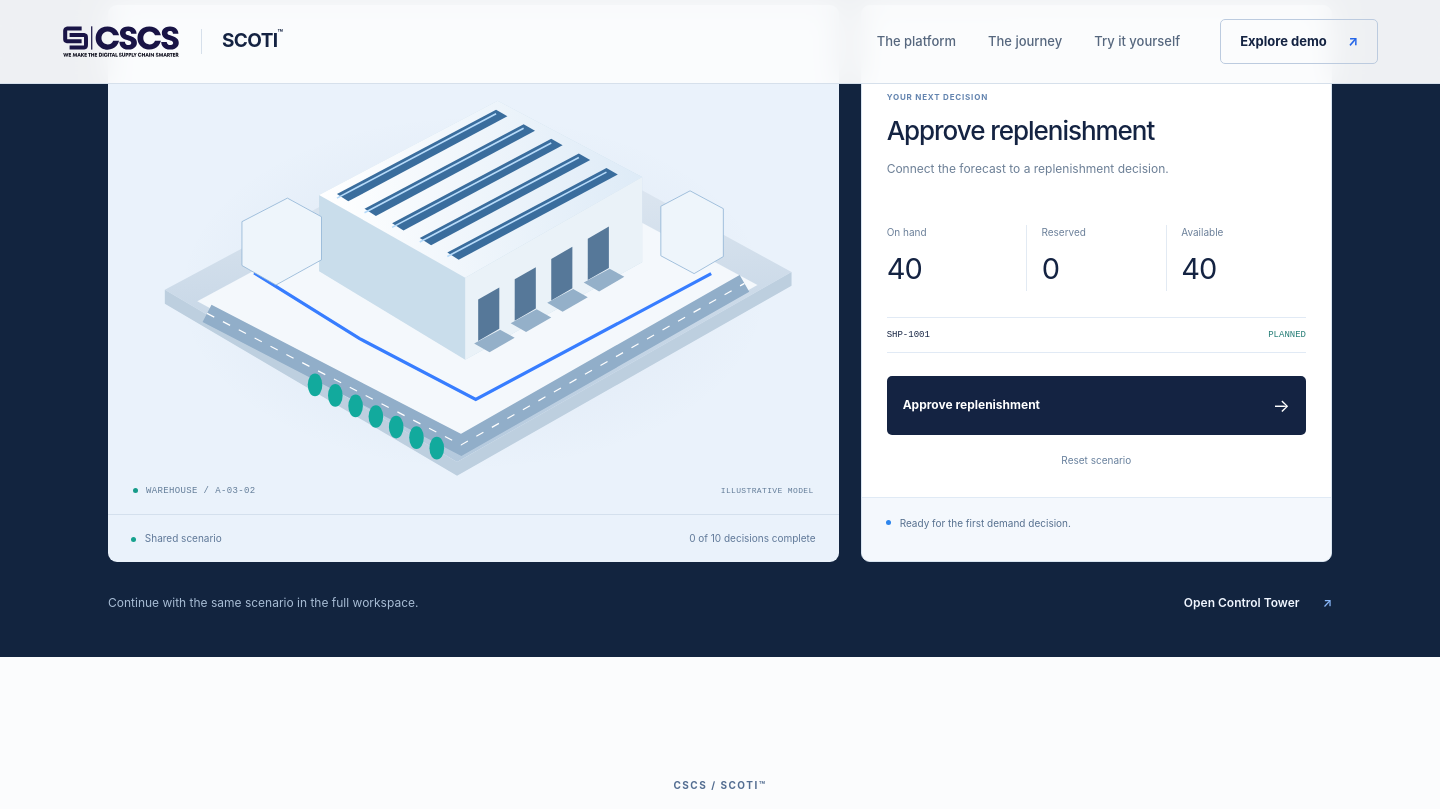
Test: connected marketing walkthrough › confirms reset and restores all canonical inventory and progression
(page scrolled)
Click the button "Approve replenishment →" at x=971, y=405, box [887,376,1306,435]
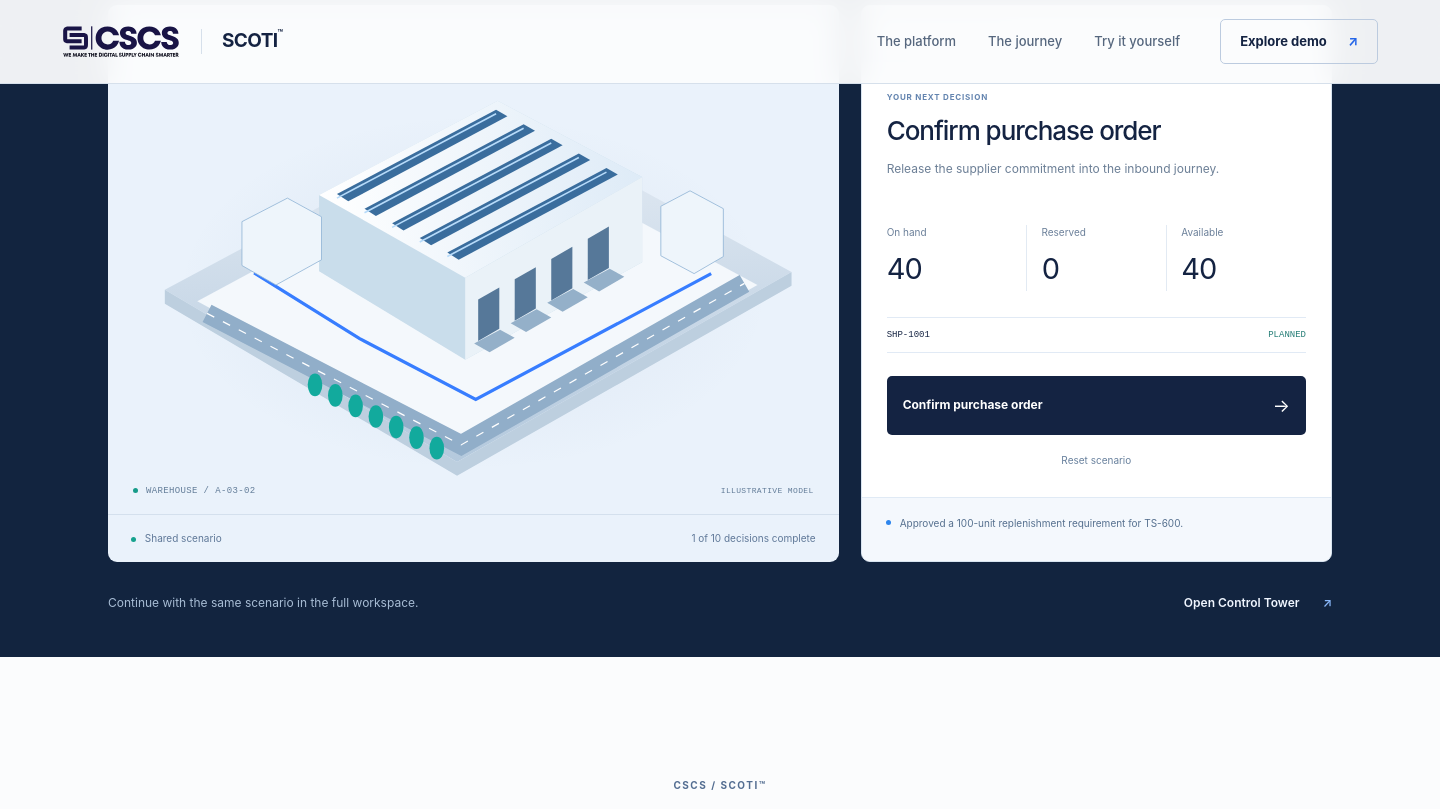
Click the button "Confirm purchase order →" at x=973, y=405, box [887,376,1306,435]
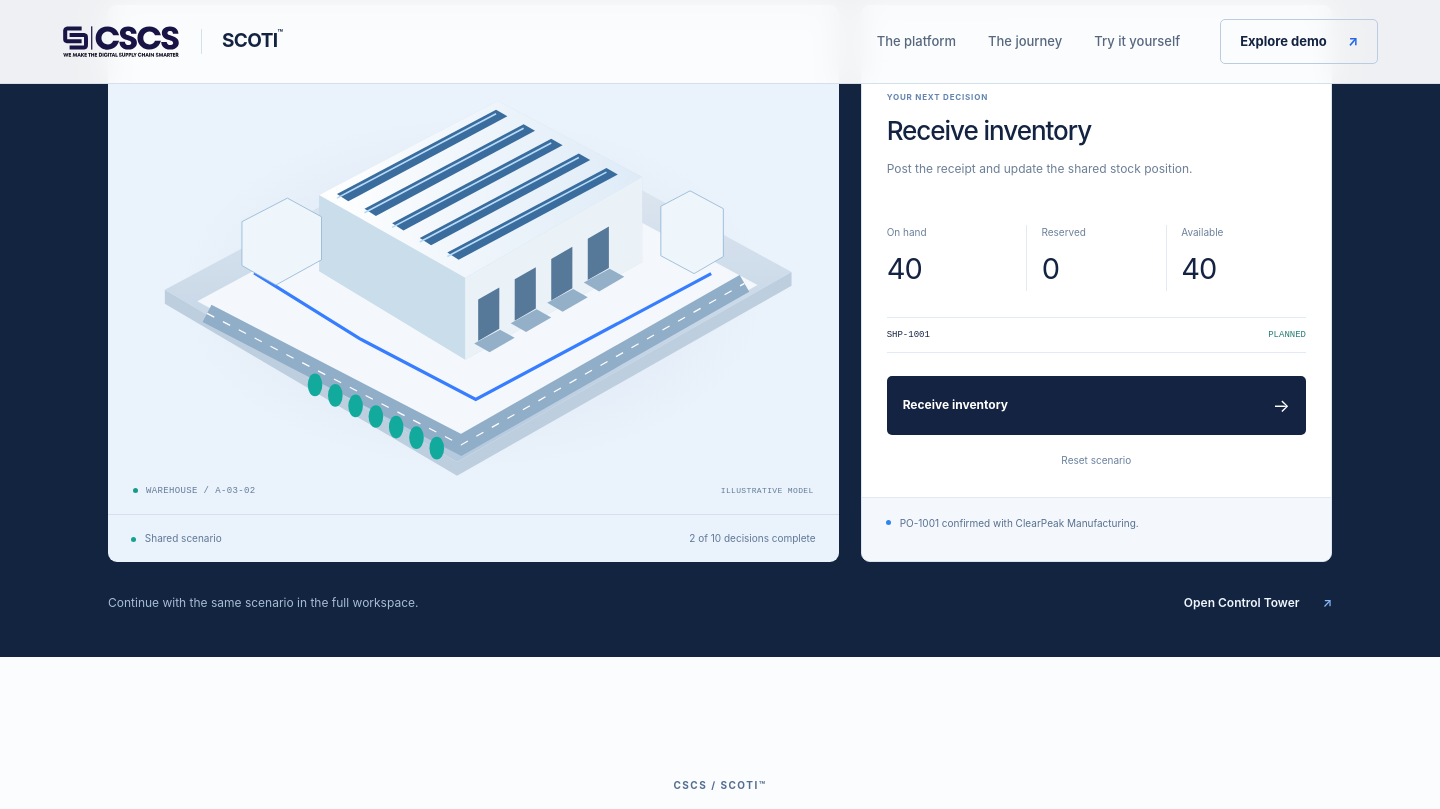
Click the button "Receive inventory →" at x=955, y=405, box [887,376,1306,435]
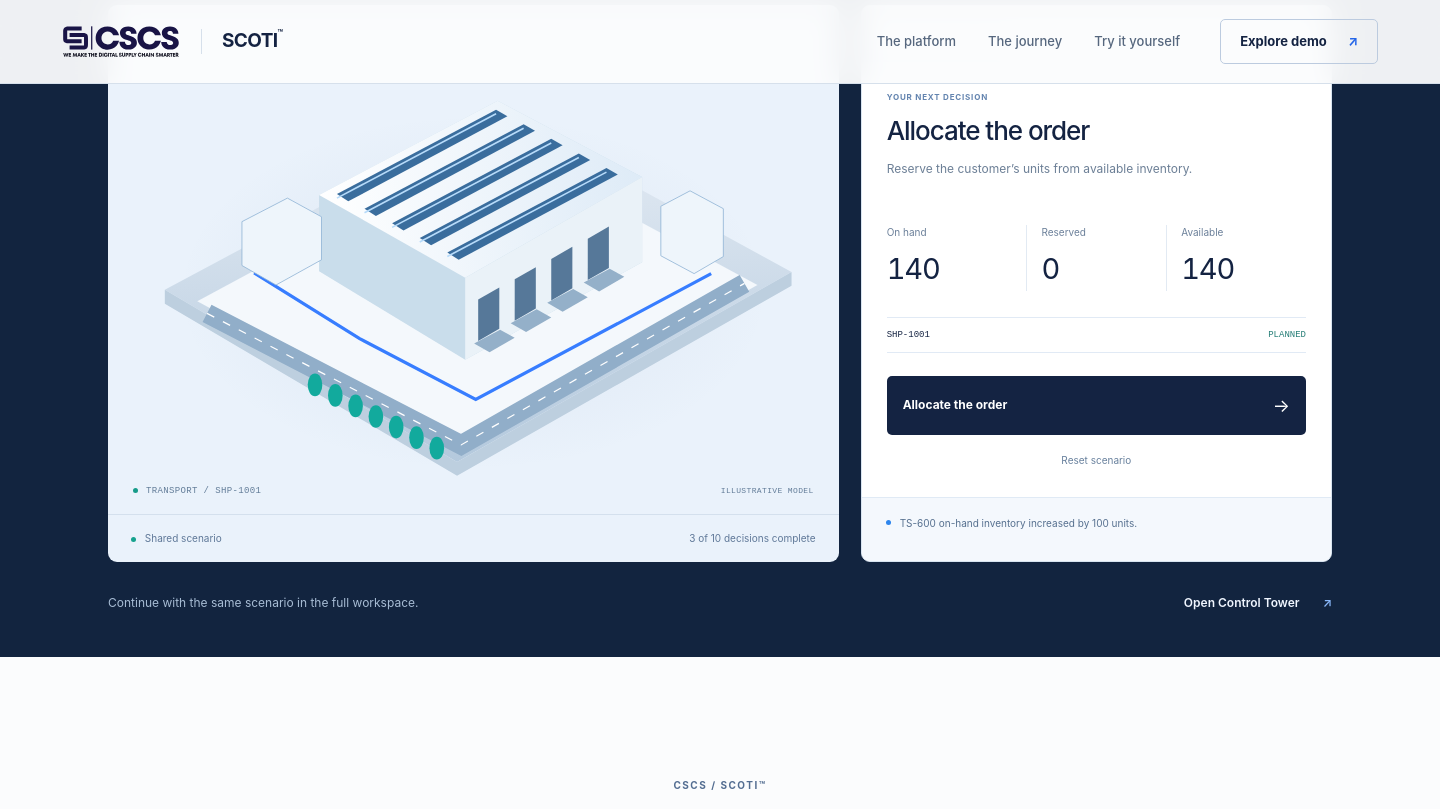
Click the button "Reset scenario" at x=1096, y=460, box [887,448,1306,473]
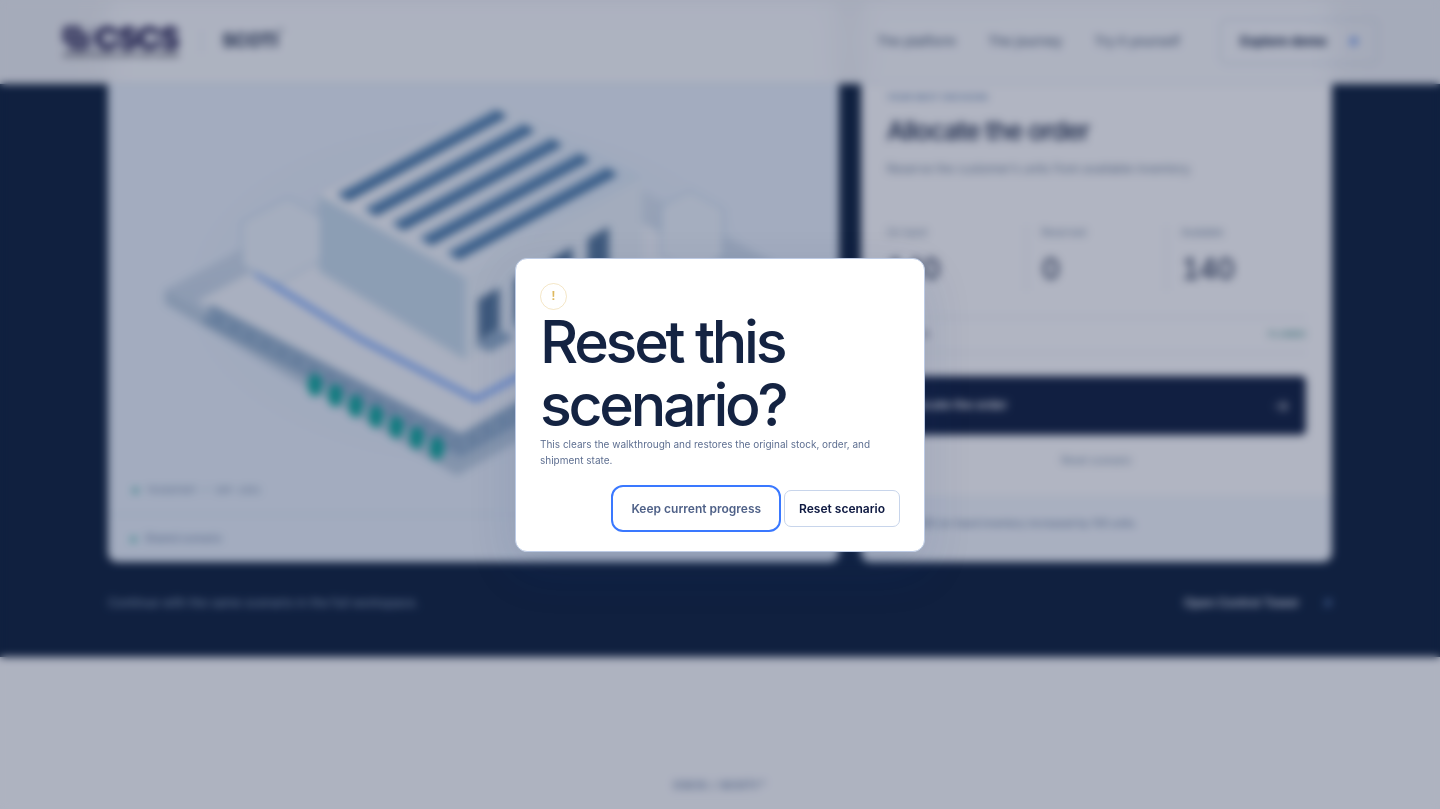
Click the button "Reset scenario" at x=842, y=509, box [784,490,900,527]
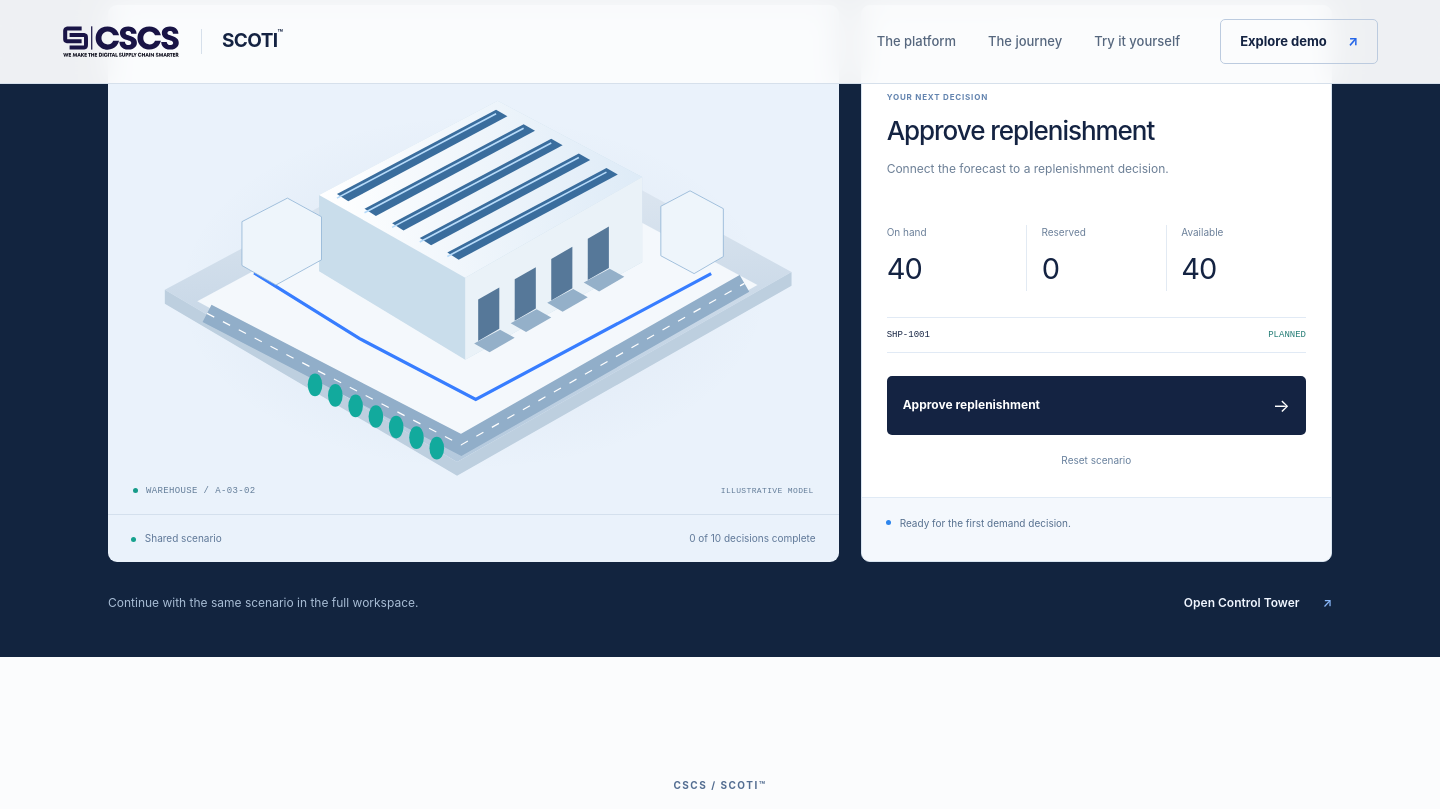
Expected: the button "Approve replenishment →" is shown, [887,376,1306,435]
